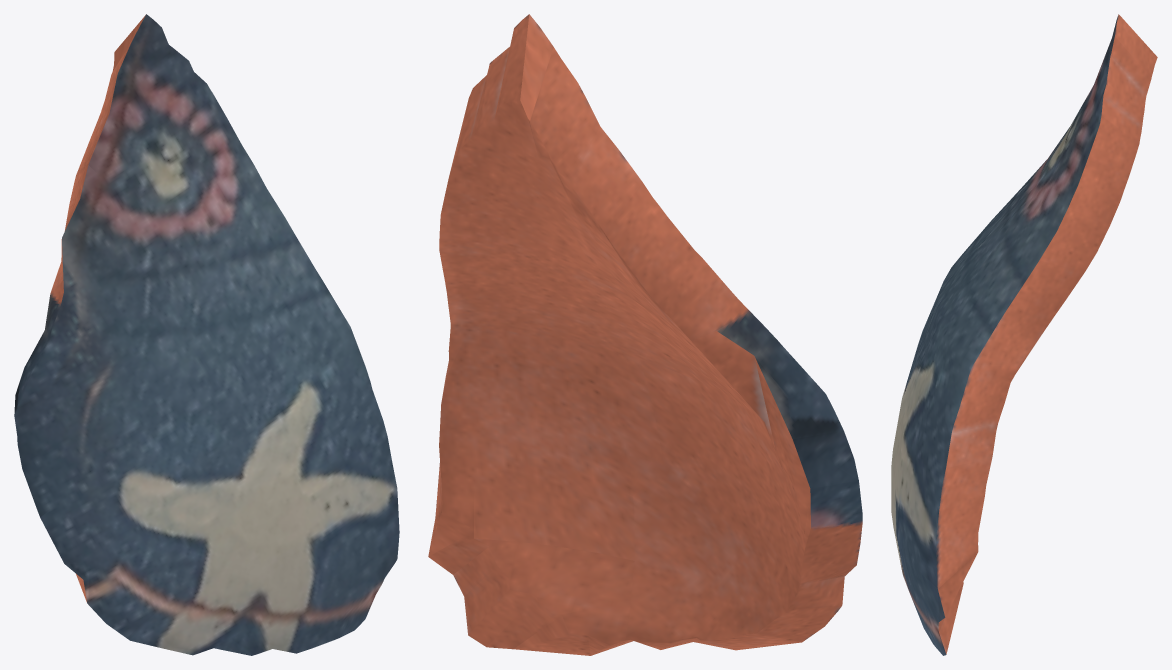
File: aggeio1.glb
The picture shows the model from 3 angles, left to right: view 1: azimuth 30°, elevation 25°; view 2: azimuth 150°, elevation 25°; view 3: azimuth 270°, elevation 25°; orthographic projection. The views are drawn at different scales.
Visible parts, largest first — view 1: aggeio kommati.001; view 2: aggeio kommati.001; view 3: aggeio kommati.001.
Boxes of the visible parts, x1,y1,x2,y2 form: aggeio kommati.001: (14, 14, 399, 655); aggeio kommati.001: (428, 14, 862, 655); aggeio kommati.001: (891, 14, 1157, 655).
Size of the model in its own units: 0.3682 by 0.5789 by 0.2398.
Materials: 1 (1 with a texture image).
